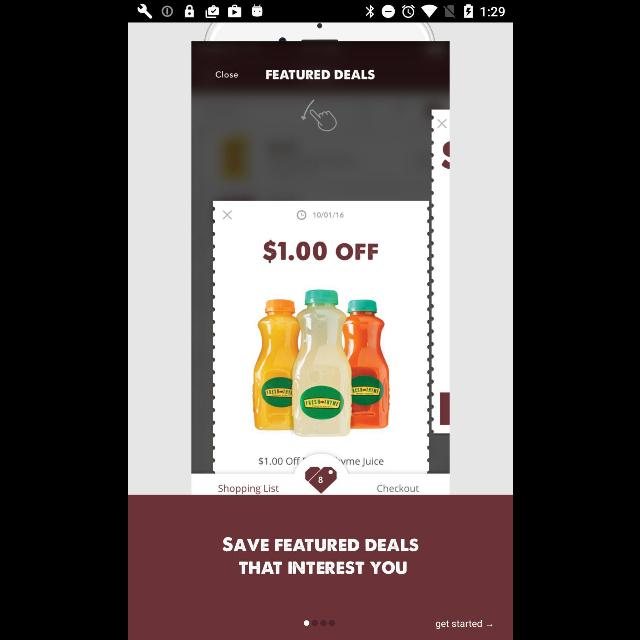image: (192, 23, 448, 494)
pageindicator: (302, 619, 334, 627)
text: (222, 538, 418, 576), (435, 618, 493, 630)
uppertaskbar: (128, 1, 512, 23)
